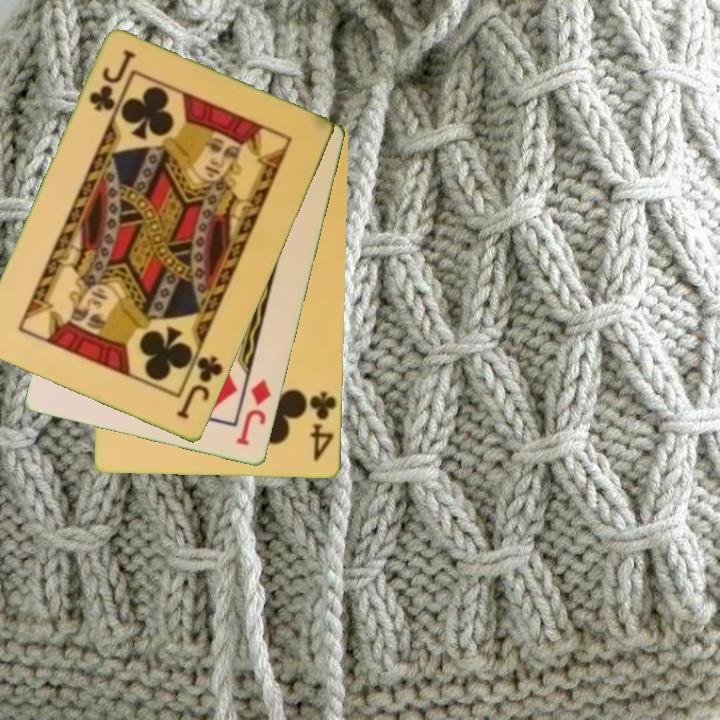4c: (307, 388, 340, 464)
Jc: (173, 352, 227, 423), (85, 47, 139, 116)
Jd: (233, 376, 274, 449)
